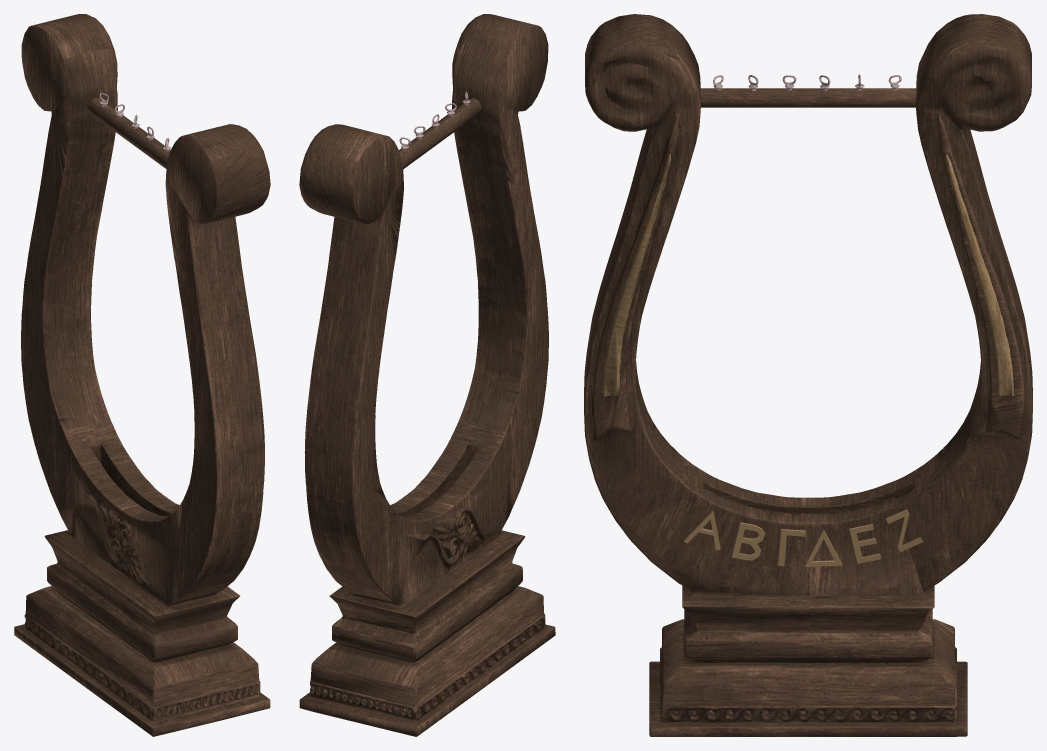
Rendered from mdl_drkrank_lyre.gltf.
3 renders of one model, left to right at view 1: azimuth 30°, elevation 25°; view 2: azimuth 150°, elevation 25°; view 3: azimuth 270°, elevation 25°, orthographic. The views are drawn at different scales.
Visible parts, largest first — view 1: Harp_low; view 2: Harp_low; view 3: Harp_low.
Boxes of the visible parts, x1,y1,x2,y2 form: Harp_low: (14,14,270,736); Harp_low: (299,14,555,736); Harp_low: (584,14,1032,736).
Bounding box in the file's own units: 0.4934 × 2.37 × 1.42.
Materials: 2 (2 with a texture image).
